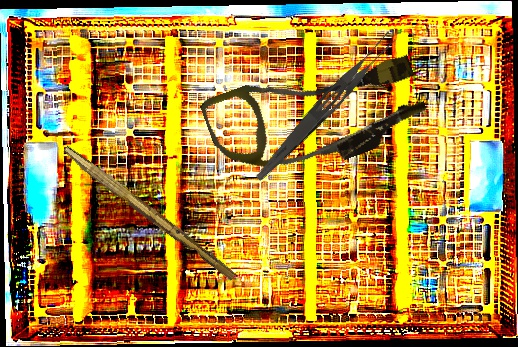Cannula: (198, 29, 434, 201)
Dressing Forceps: (252, 27, 400, 189)
Scalpel Handle: (58, 145, 240, 282)
